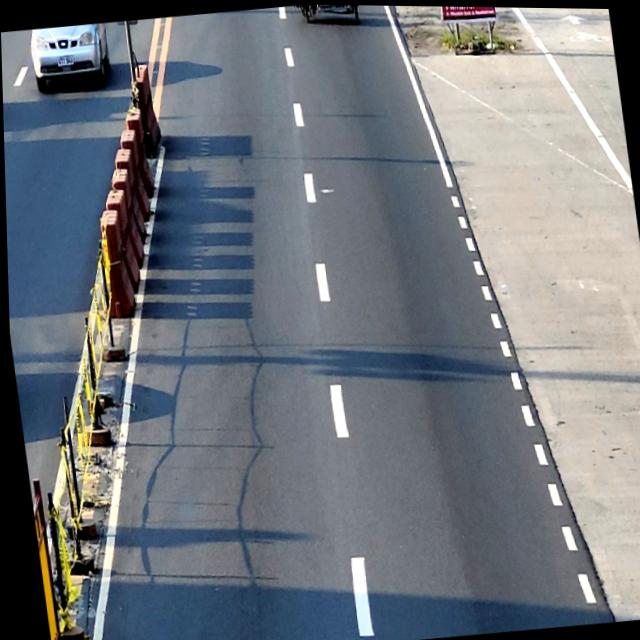Car: (26, 21, 113, 95)
License-Plate: (56, 54, 74, 68)
